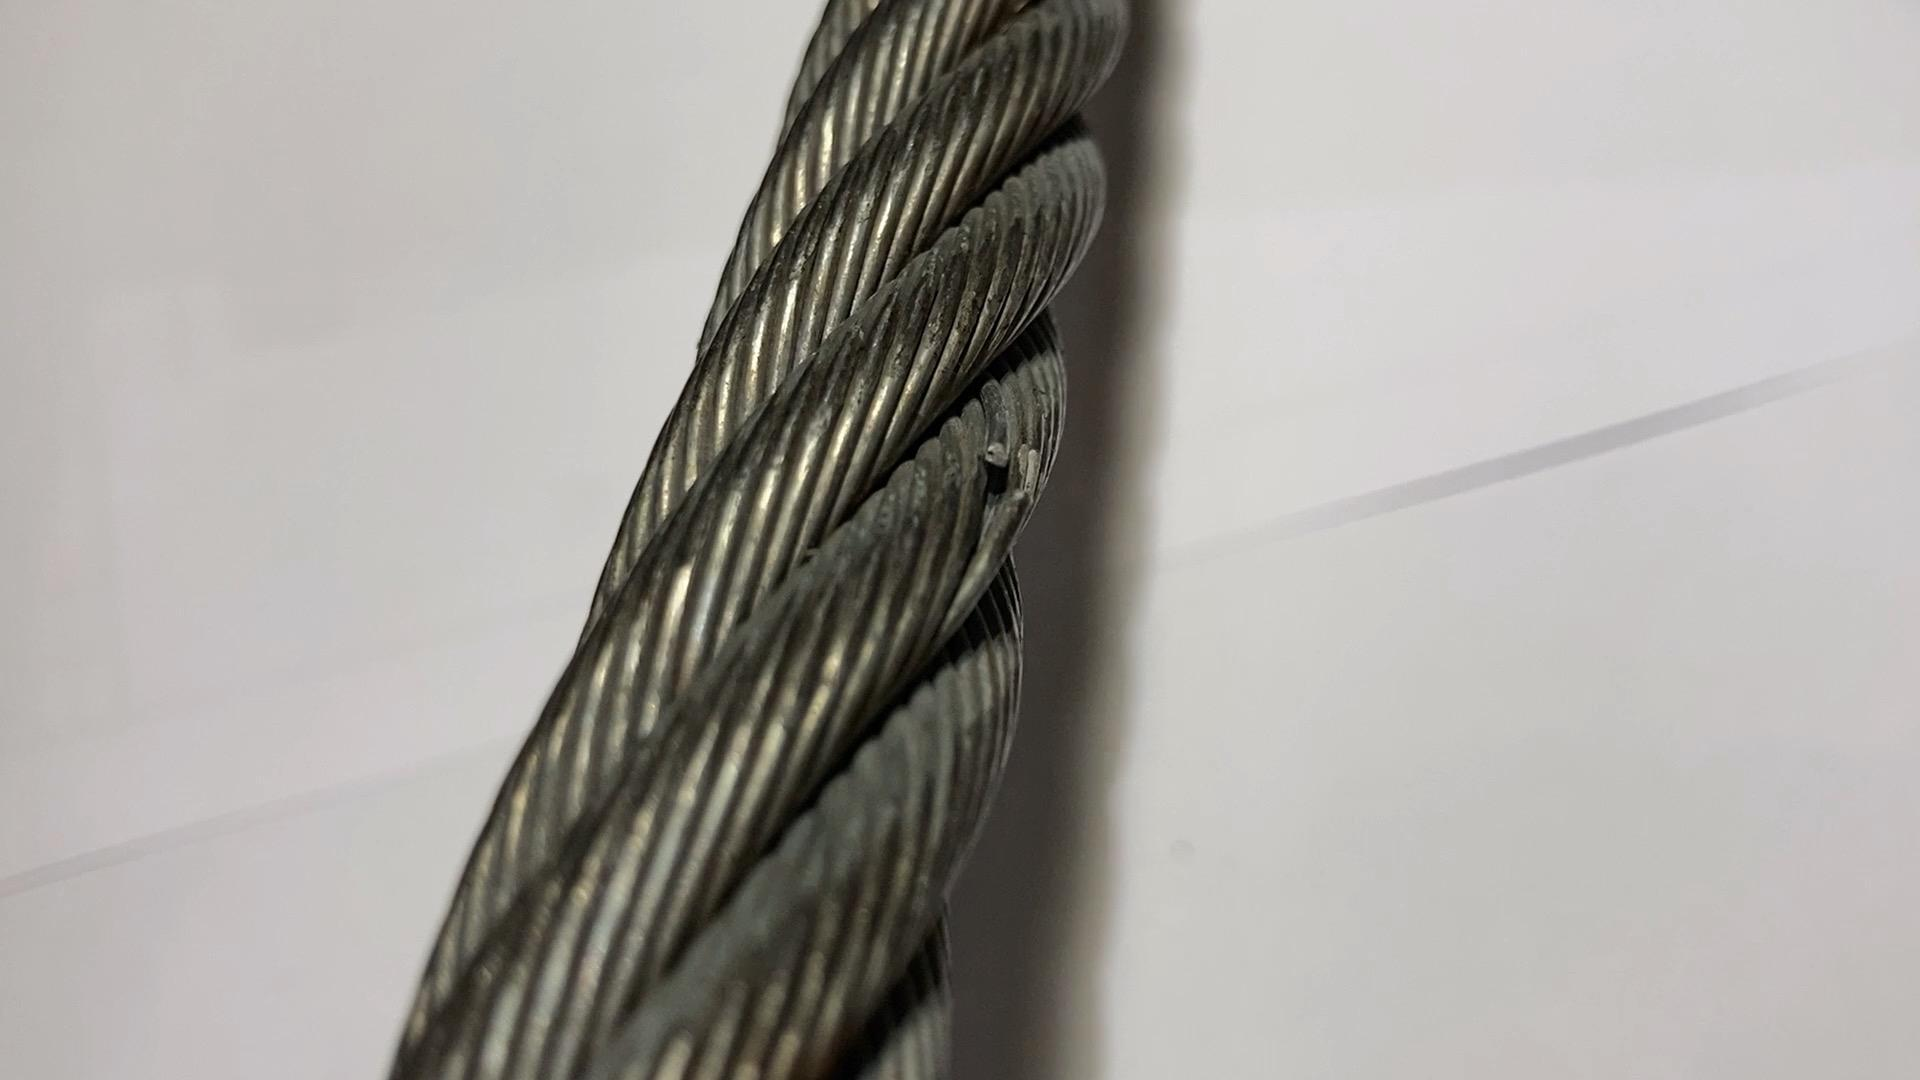break: (961, 410, 1047, 524)
